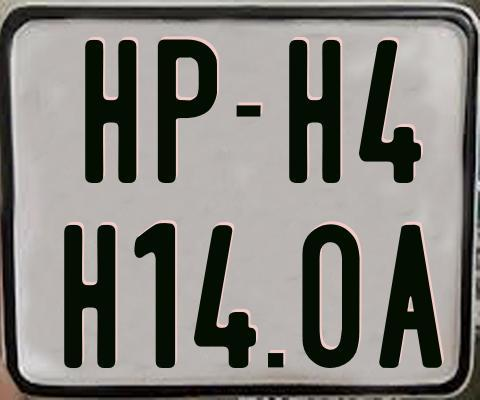0: (302, 223, 363, 372)
1: (134, 223, 175, 373)
4: (193, 224, 261, 368), (357, 37, 423, 180)
A: (378, 224, 441, 368)
H: (64, 224, 121, 369), (85, 39, 139, 184), (289, 40, 341, 183)
P: (155, 39, 220, 185)
